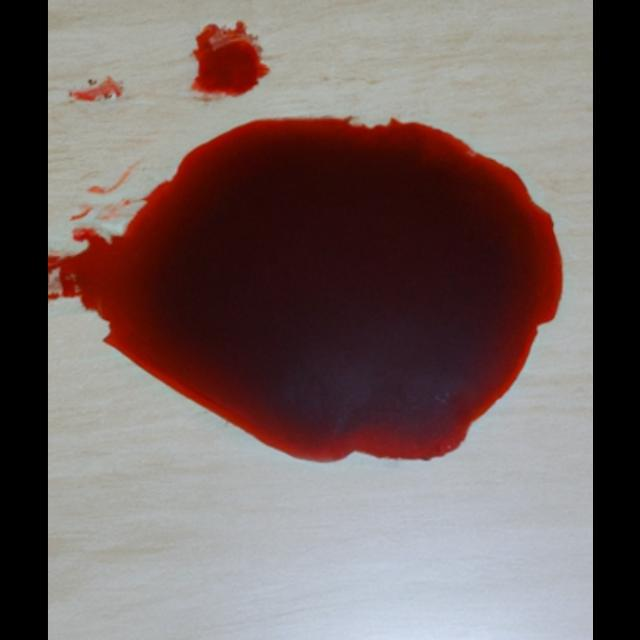blood: (48, 115, 564, 462), (190, 20, 270, 98), (67, 74, 122, 102)
